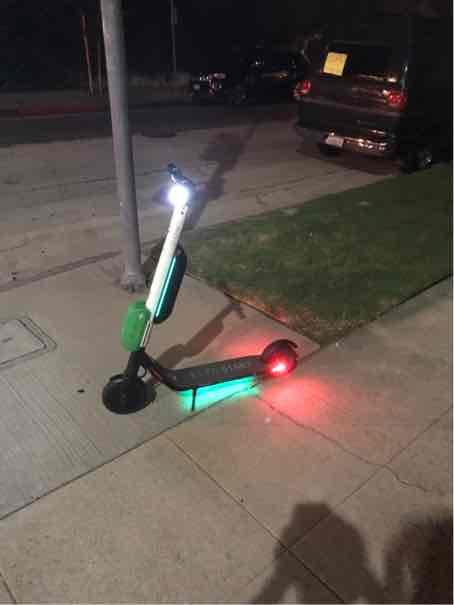scooter: (91, 154, 308, 430)
